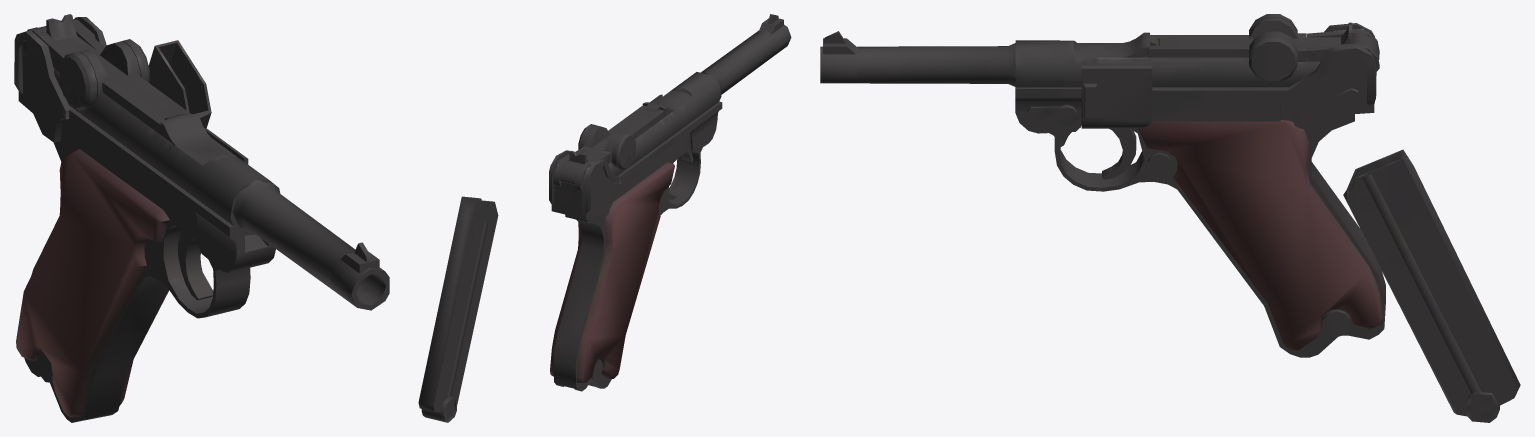
The model's file is luger_lo.glb.
3 views of the same model, side by side, from view 1: azimuth 30°, elevation 25°; view 2: azimuth 150°, elevation 25°; view 3: azimuth 270°, elevation 25° (orthographic). The views are drawn at different scales.
Parts seen in each view (by area): view 1: Body, Barrel, Slide, Part3, Clip, Part2, Part1, Trigger; view 2: Body, Clip, Slide, Barrel, Part3, Part2, Part1; view 3: Body, Clip, Barrel, Slide, Part3, Part2, Part1, Trigger.
Boxes of the visible parts, <box> form: Body: <box>14,17,275,422</box>; Barrel: <box>232,180,389,310</box>; Slide: <box>54,68,280,235</box>; Part3: <box>39,14,149,110</box>; Clip: <box>148,40,211,128</box>; Part2: <box>96,55,190,135</box>; Part1: <box>160,114,236,165</box>; Trigger: <box>178,230,212,300</box>; Body: <box>549,94,722,391</box>; Clip: <box>418,196,498,422</box>; Slide: <box>608,72,721,175</box>; Barrel: <box>701,14,791,94</box>; Part3: <box>559,124,635,184</box>; Part2: <box>592,105,665,150</box>; Part1: <box>642,91,691,116</box>; Body: <box>1015,23,1385,357</box>; Clip: <box>1343,149,1520,422</box>; Barrel: <box>820,31,1015,86</box>; Slide: <box>1015,40,1320,87</box>; Part3: <box>1249,14,1379,82</box>; Part2: <box>1148,35,1299,57</box>; Part1: <box>1075,32,1158,57</box>; Trigger: <box>1059,128,1136,179</box>.
Bounding box in the file's own units: 0.0772 × 0.1539 × 0.2938.
Materials: 1 (1 with a texture image).
